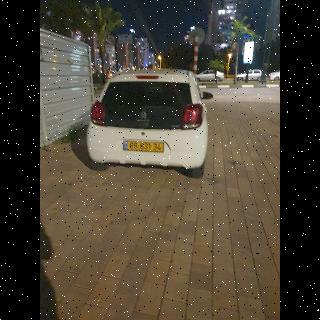LicensePlate: (128, 141, 164, 151)
